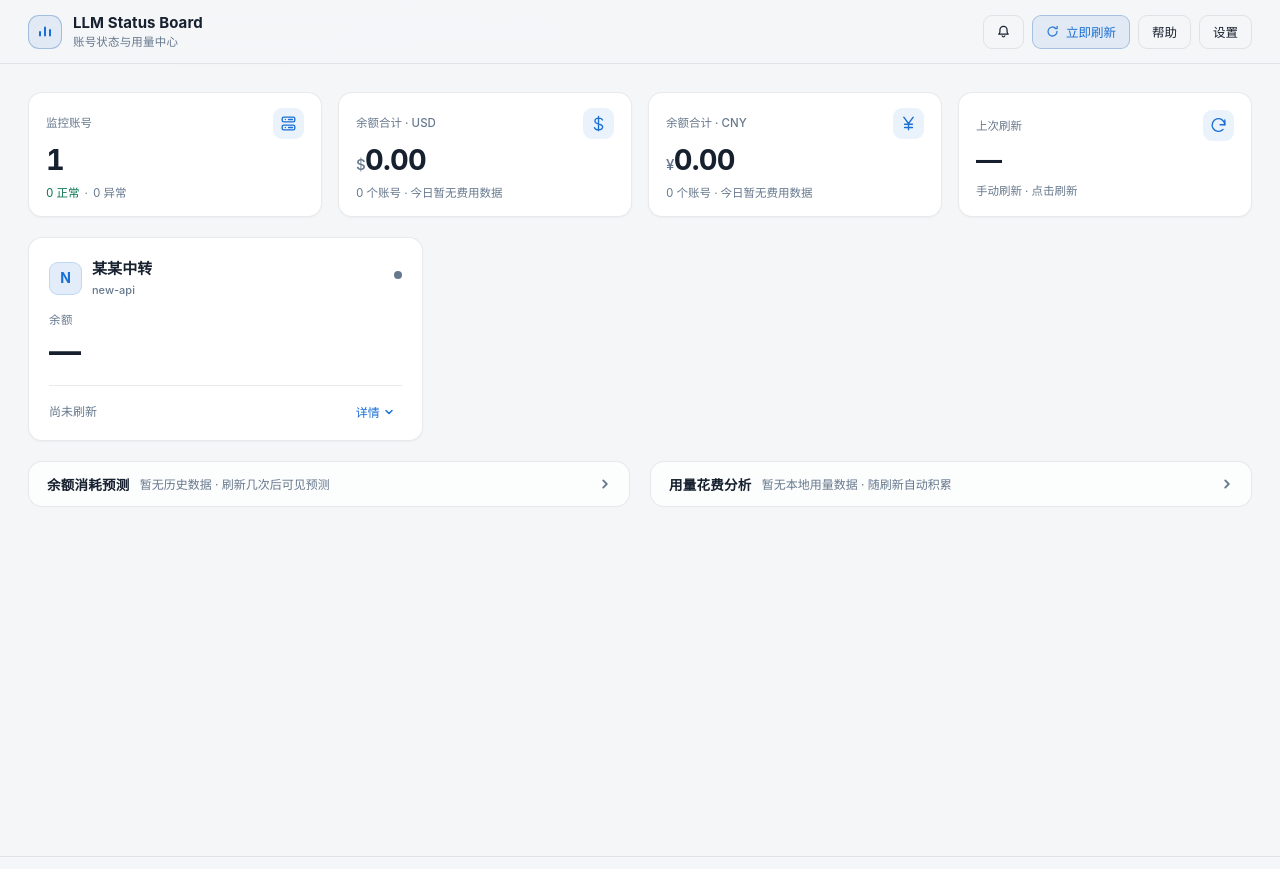
Test: App 设置页 › 编辑账号进入表单并显示类型对应的认证字段
Expected: the text "某某中转" is shown, [92,258,152,281]
Click the button "设置" at [1226, 32], box [1199,14,1252,48]
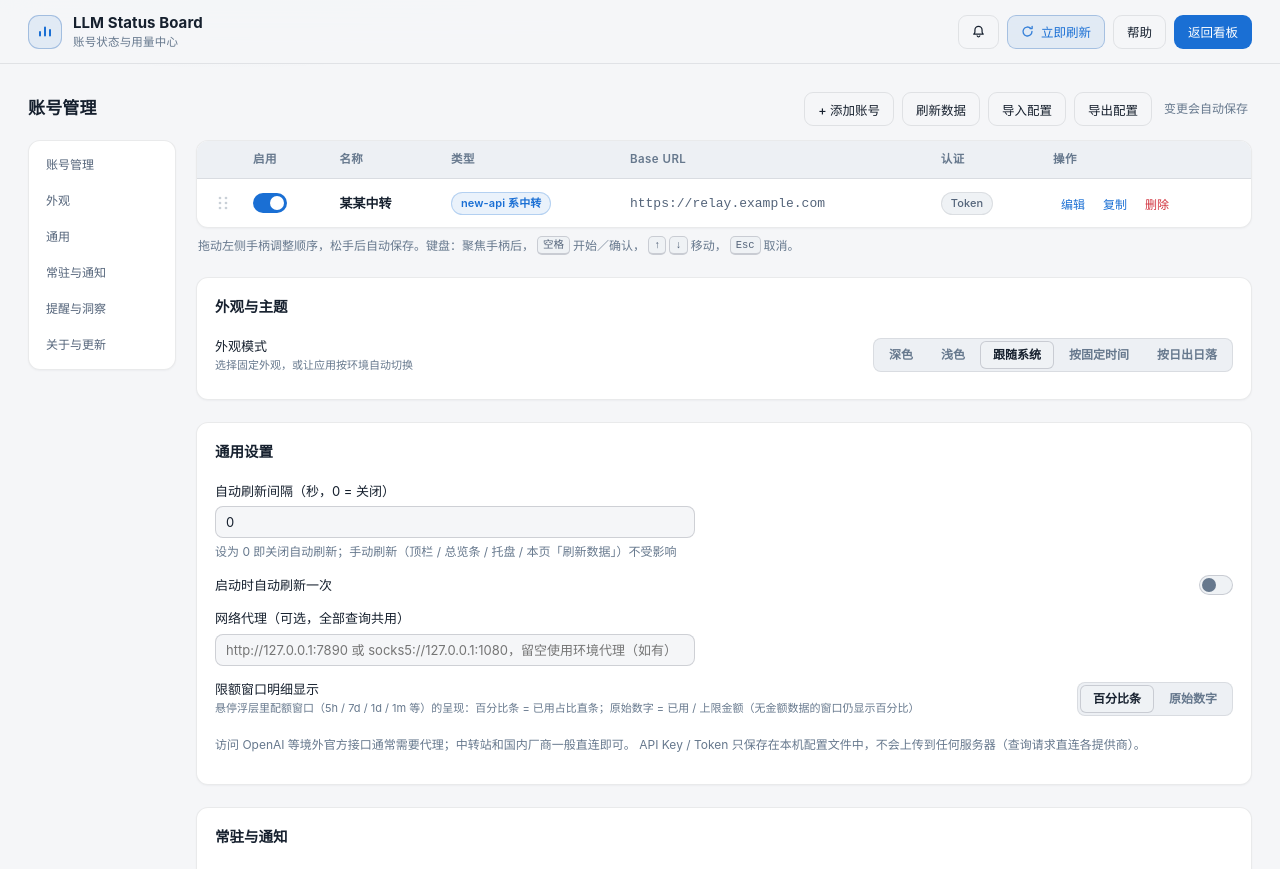
Now the heading "账号管理" is shown, box [28,96,97,122]
Click the button "编辑" at [1073, 203], box [1053,191,1093,216]
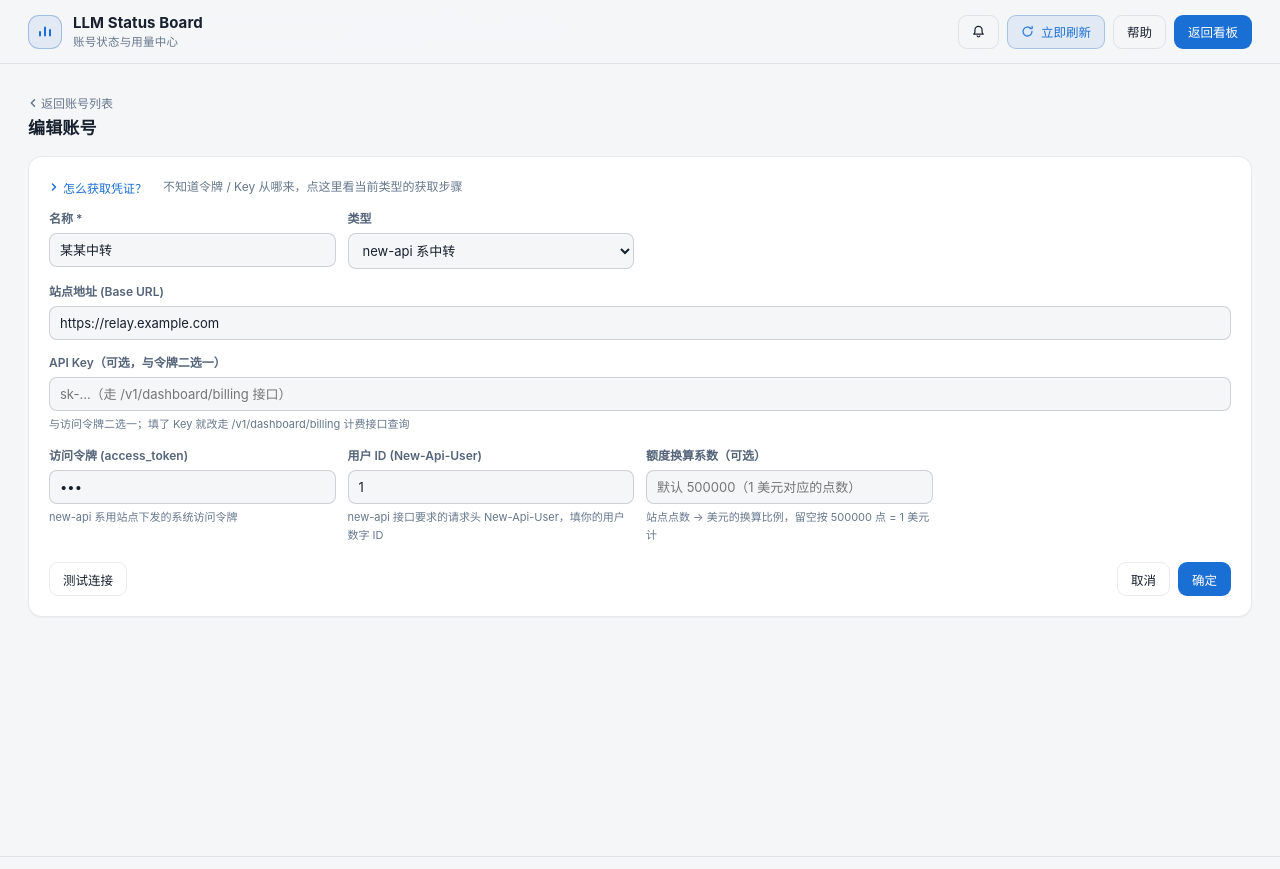
Now the text "访问令牌 (access_token)" is shown, box [49,448,188,463]
Now the text "用户 ID (New-Api-User)" is shown, box [348,448,482,463]
Now the field showing "某某中转" is shown, box [49,232,336,266]
